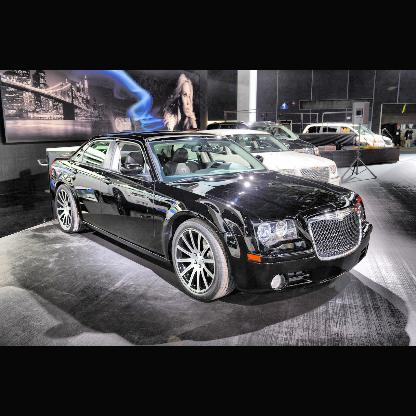Chrysler 300 SRT-8 2010: (31, 127, 395, 320)
